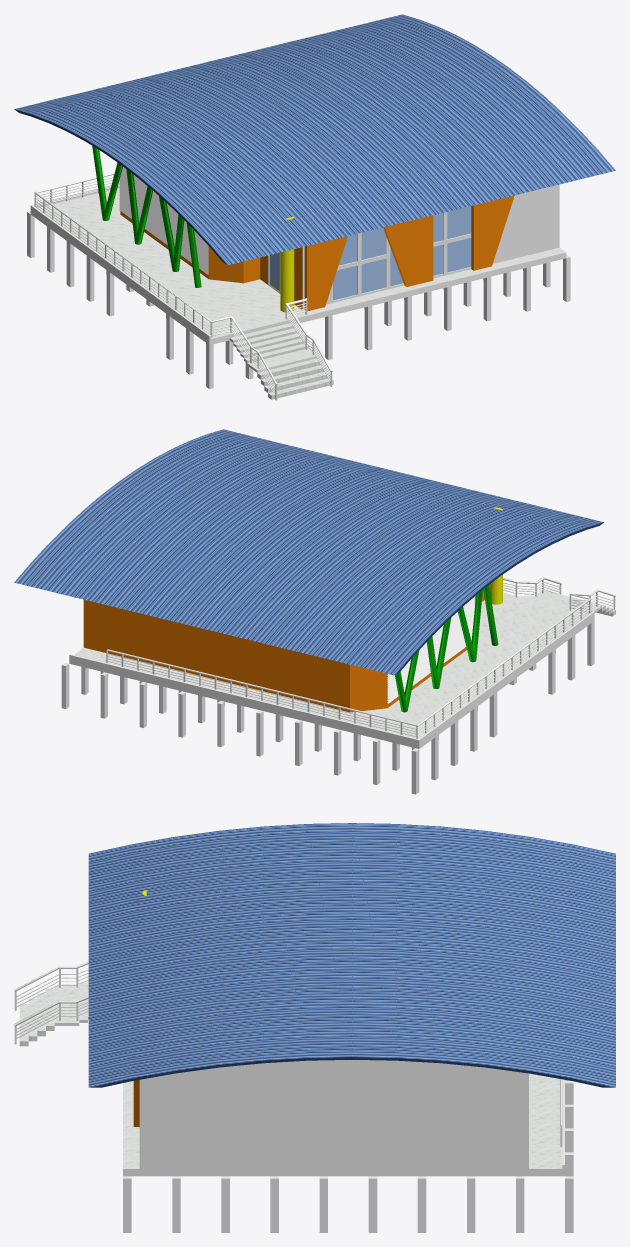
The model's file is Tòa đa năng.dae.
The picture shows the model from 3 angles, top to bottom: view 1: azimuth 30°, elevation 25°; view 2: azimuth 150°, elevation 25°; view 3: azimuth 270°, elevation 25°; orthographic projection. The views are drawn at different scales.
Parts seen in each view (by area): view 1: Tòa đa năng; view 2: Tòa đa năng; view 3: Tòa đa năng.
Part boxes in pixels (box(x1,y1,x2,y2)): Tòa đa năng: box(14, 14, 615, 400); Tòa đa năng: box(14, 429, 615, 794); Tòa đa năng: box(14, 823, 615, 1232).
Bounding box in the file's own units: 166 × 179 × 63.9.
